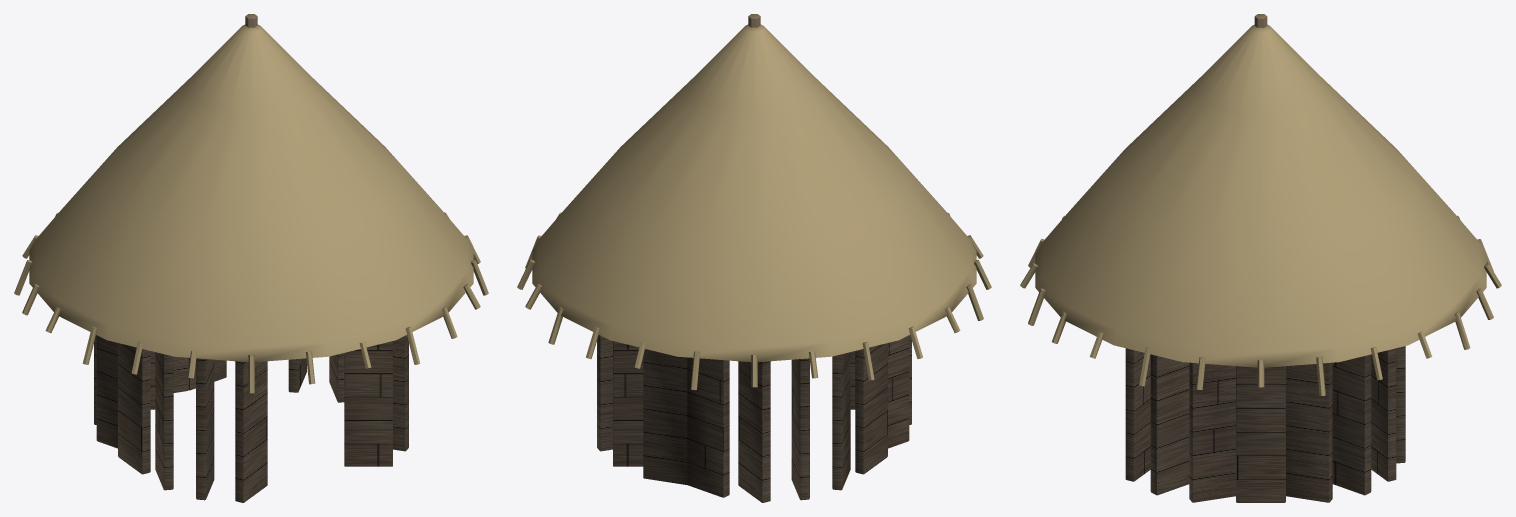
The model's file is hut.glb.
3 views of the same model, side by side, from view 1: azimuth 30°, elevation 25°; view 2: azimuth 150°, elevation 25°; view 3: azimuth 270°, elevation 25° (orthographic).
Parts seen in each view (by area): view 1: boat_thatch, boat_shed; view 2: boat_thatch, boat_shed; view 3: boat_thatch, boat_shed.
Part boxes in pixels (x1,y1,x2,y2): boat_thatch: (14, 24, 488, 393); boat_shed: (94, 335, 408, 502); boat_thatch: (517, 24, 991, 390); boat_shed: (597, 335, 911, 502); boat_thatch: (1020, 24, 1501, 395); boat_shed: (1125, 346, 1405, 502).
Size of the model in its own units: 3.68 by 3.6 by 3.68.
Materials: 3 (1 with a texture image).
